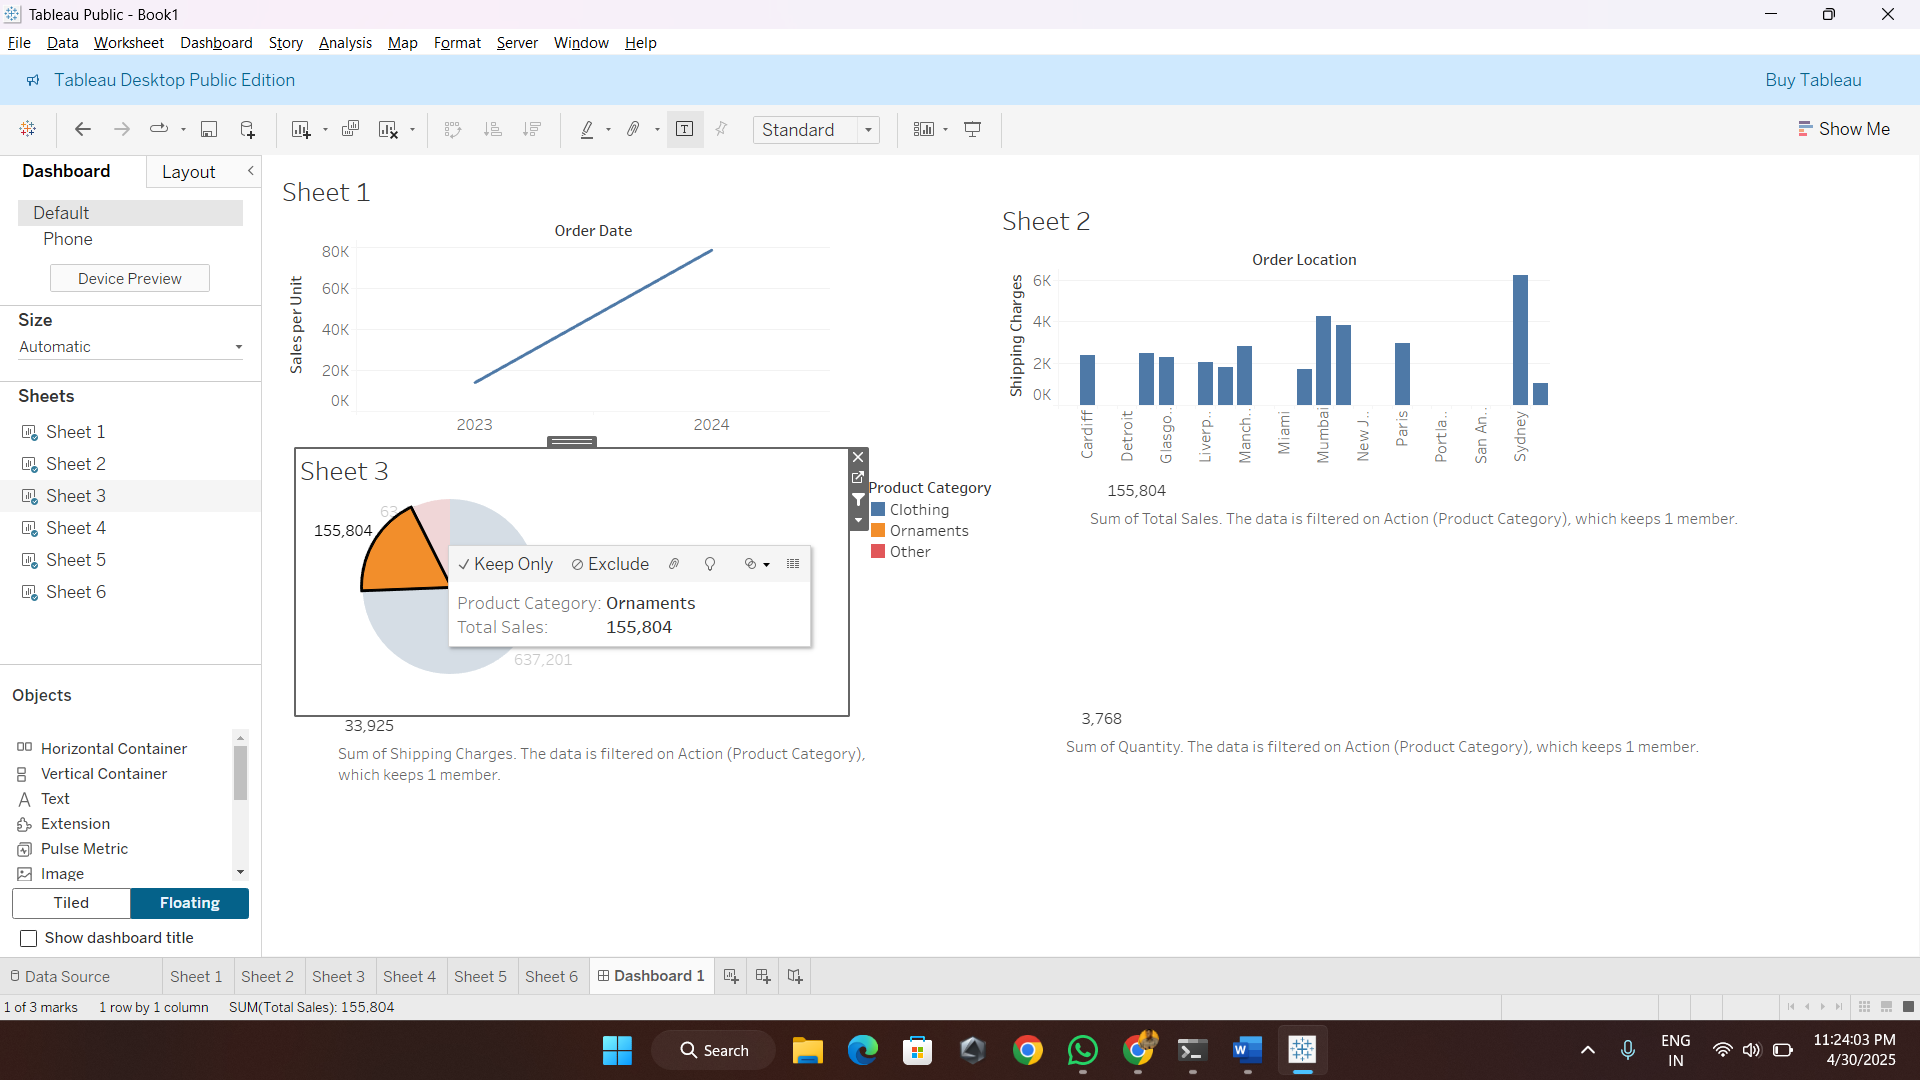

What the dashboard file says about the page in this screenshot:
{"tool":"tableau","page":{"name":"Dashboard 1","canvas":[1000,1000],"units":"permille","ordinal":0},"visuals":[{"type":"worksheet","title":"Sheet 1","mark":"Automatic","rows":["Sales per Unit"],"cols":["Order Date"],"box":[9.8,19,333,332.5]},{"type":"worksheet","title":"Sheet 2","mark":"Automatic","rows":["Shipping Charges"],"cols":["Order Location"],"box":[444.3,54.4,333,332.5]},{"type":"worksheet","title":"Sheet 3","mark":"Pie","box":[20.7,366.6,333,332.5]},{"type":"legend","title":"Sheet 3","param":"[federated.0y52ri00w7sm6818tsr5o18xbzud].[none:Product Category:nk]","box":[365.7,402,152.8,107.5]},{"type":"worksheet","title":"Sheet 4","mark":"Text","box":[499.7,404.5,395.9,277.2]},{"type":"worksheet","title":"Sheet 6","mark":"Automatic","box":[485.2,689.1,415.2,275.9]}]}

Visuals, with their boxes on the dashboard's canvas, which has no fixed pixel size, in thousandths of its width and height (x1, y1, x2, y2). These are canvas units, not pixel positions in the 1920x1080 screenshot, which may show the page scaled, cropped or inside an application window:
"Sheet 1" worksheet: Rect(10, 19, 343, 352)
"Sheet 2" worksheet: Rect(444, 54, 777, 387)
"Sheet 3" worksheet (Pie marks): Rect(21, 367, 354, 699)
"Sheet 3" legend: Rect(366, 402, 518, 510)
"Sheet 4" worksheet (Text marks): Rect(500, 404, 896, 682)
"Sheet 6" worksheet: Rect(485, 689, 900, 965)
